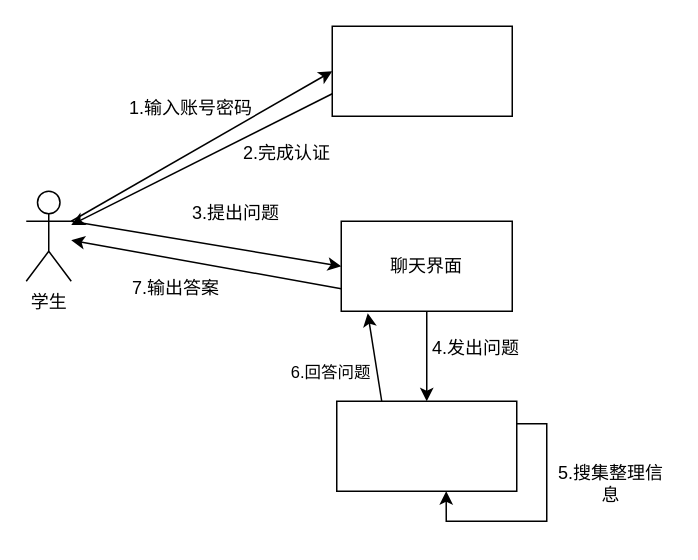
Image size: 698x560. Some labels were removed from this diagram. The box of each missing label's shape, as (x1, y1, x2, y2) in pixels:
机器人: (335, 400, 517, 491)
认证程序: (331, 25, 512, 116)
